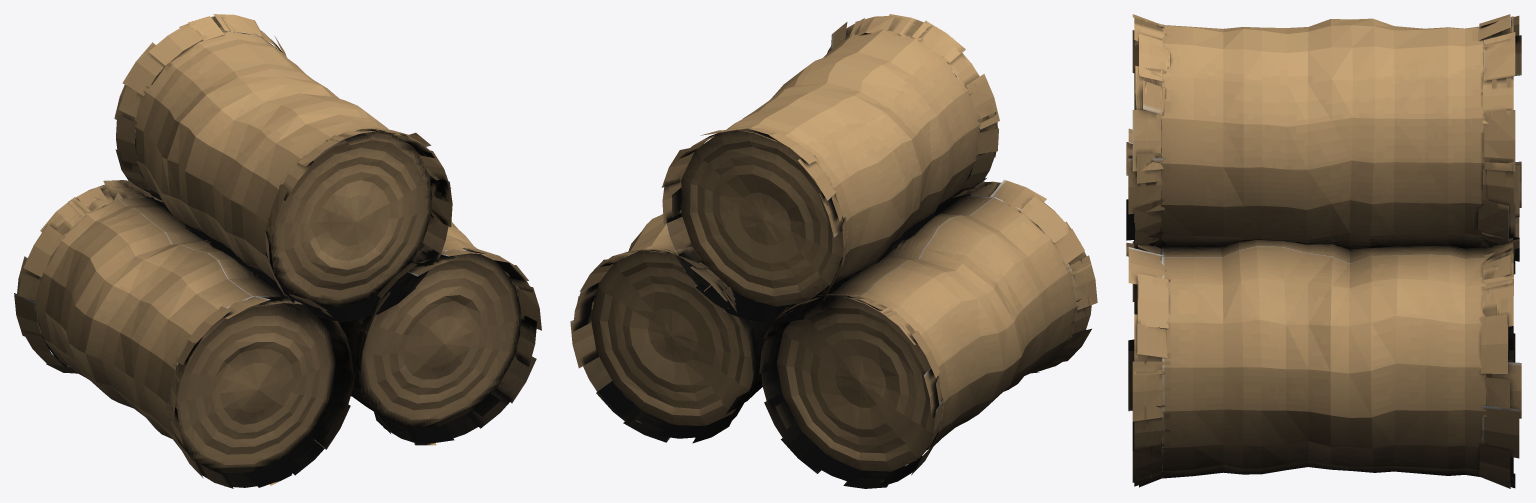
Rendered from HayBale_Stack_01.fbx.
3 views of the same model, side by side, from view 1: azimuth 30°, elevation 25°; view 2: azimuth 150°, elevation 25°; view 3: azimuth 270°, elevation 25° (orthographic). The views are drawn at different scales.
Parts seen in each view (by area): view 1: SM_Town_Farm_HayBale_Stack_01.mo; view 2: SM_Town_Farm_HayBale_Stack_01.mo; view 3: SM_Town_Farm_HayBale_Stack_01.mo.
Part boxes in pixels (left/top/right/bottom): SM_Town_Farm_HayBale_Stack_01.mo: left=14, top=14, right=541, bottom=488; SM_Town_Farm_HayBale_Stack_01.mo: left=570, top=14, right=1097, bottom=488; SM_Town_Farm_HayBale_Stack_01.mo: left=1126, top=14, right=1521, bottom=488.
Size of the model in its own units: 451 by 380 by 337.
